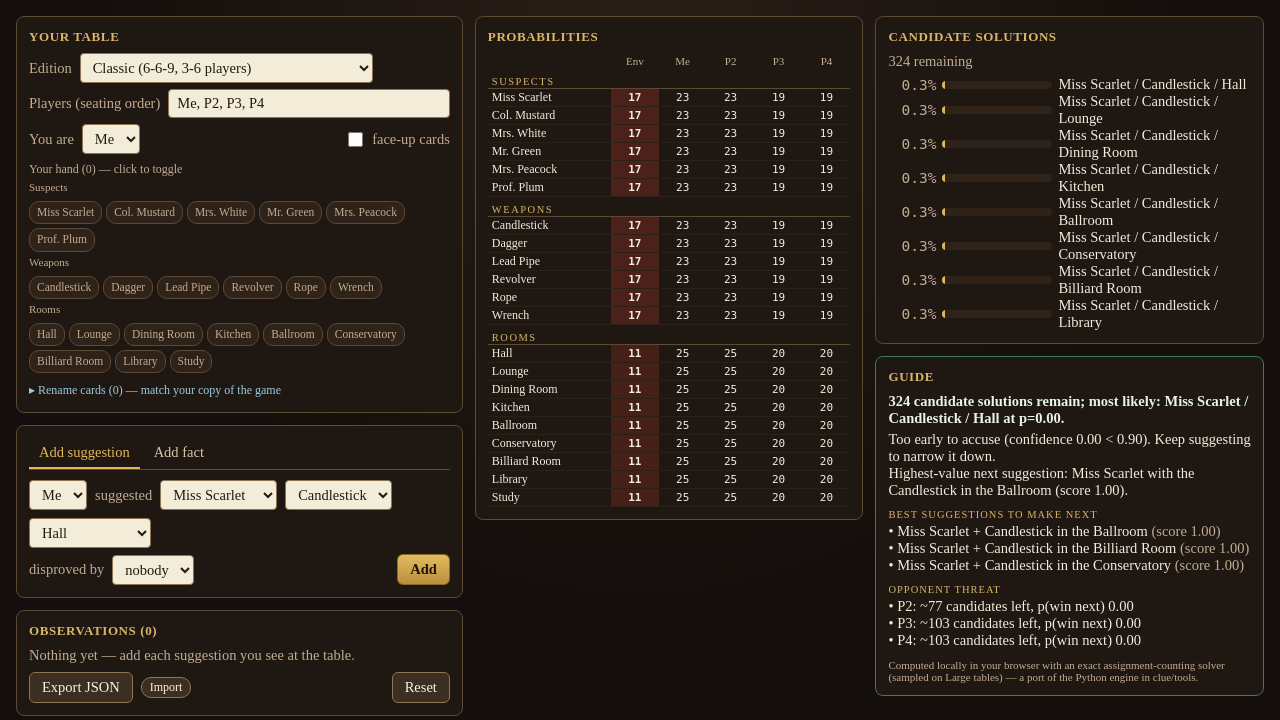
Test: Analyze page › validates the session and supports reset
This screenshot has width=1280, height=720.
Step 1. Replace the text in the field with placeholder "Me, Alice, Bob, Cara" with "A, B" → (309, 104), box [168,89,450,118]
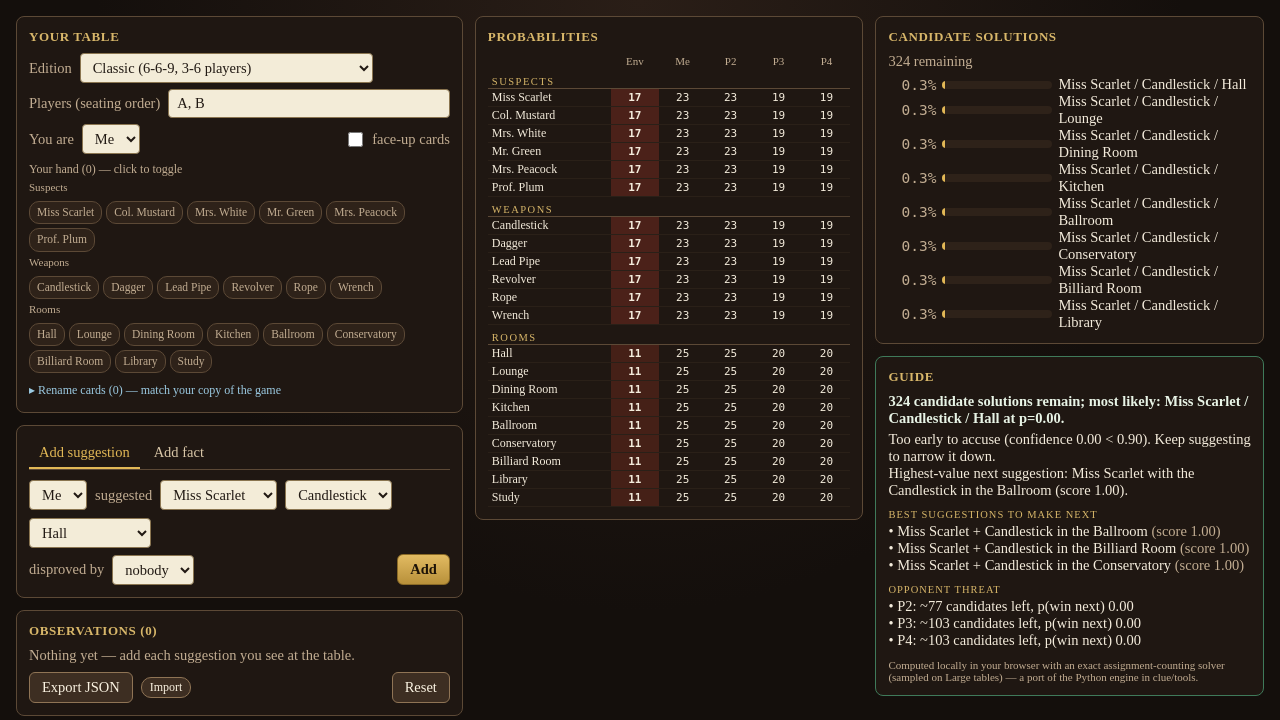
Step 2. Press Enter in the field with placeholder "Me, Alice, Bob, Cara", box [168,89,450,118]
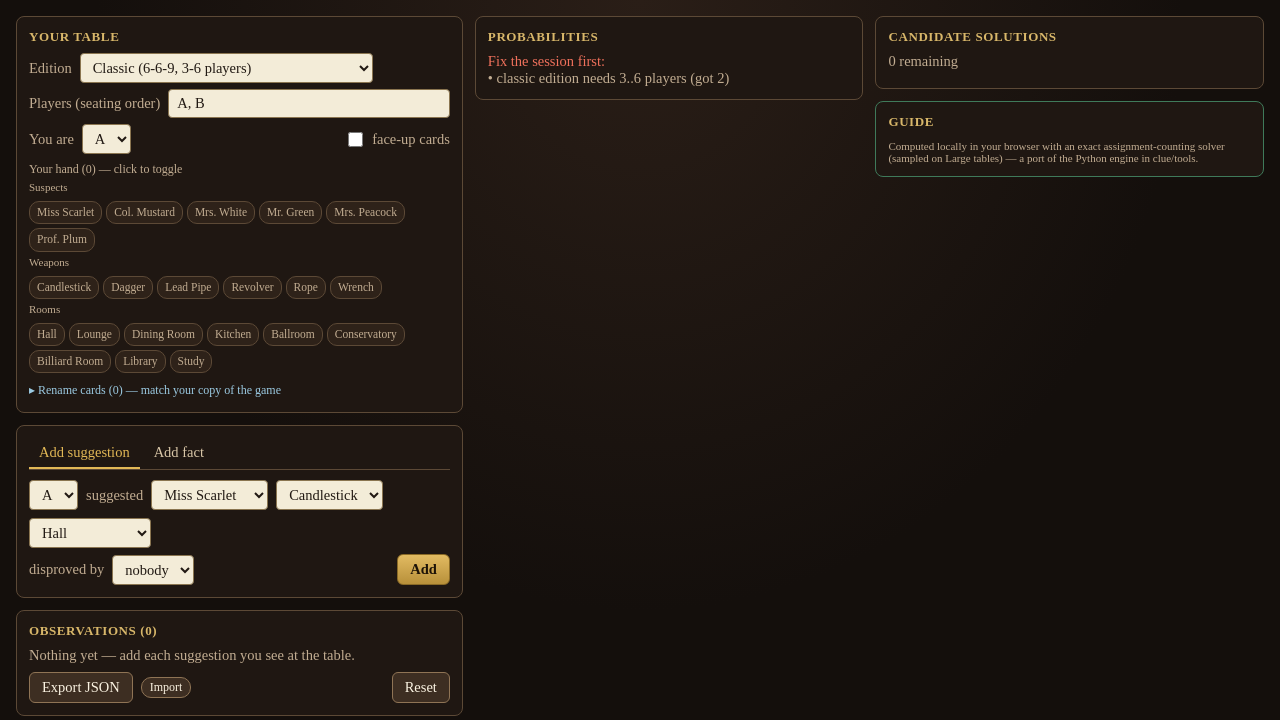
Expected: the text "Fix the session first:" is shown, [488,53,605,69]
Expected: the text "• classic edition needs 3..6 players (got 2)" is shown, [488,70,729,86]
Step 3. Click the button "Reset" → (421, 688), box [392,672,450,703]
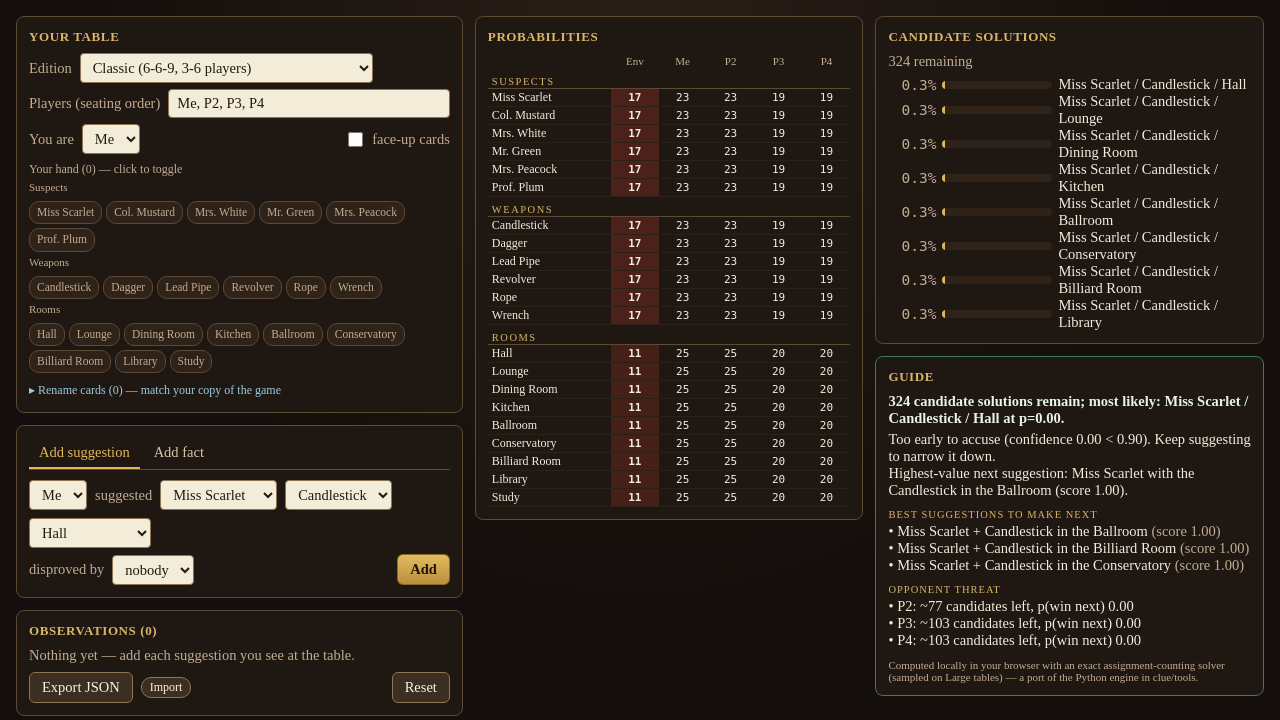
Expected: the text "Fix the session first" is gone
